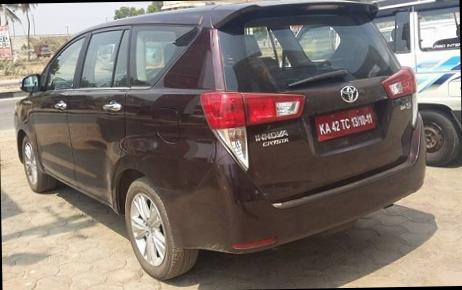plate: (313, 101, 384, 146)
